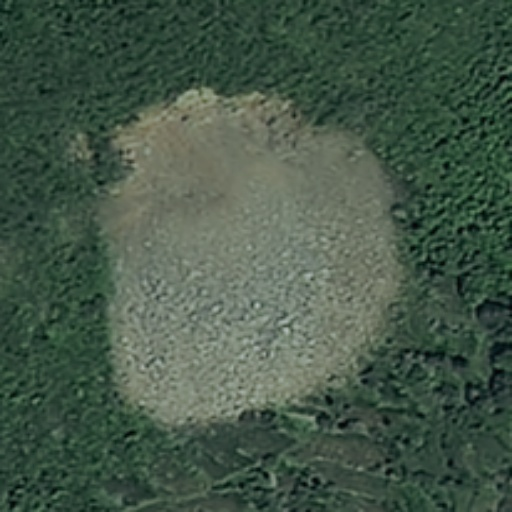landslide: (105, 88, 406, 429)
